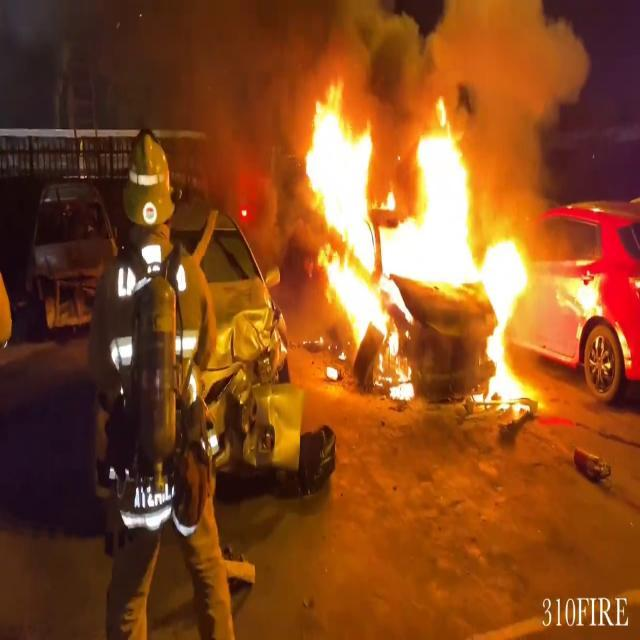Fire: (292, 81, 544, 405)
